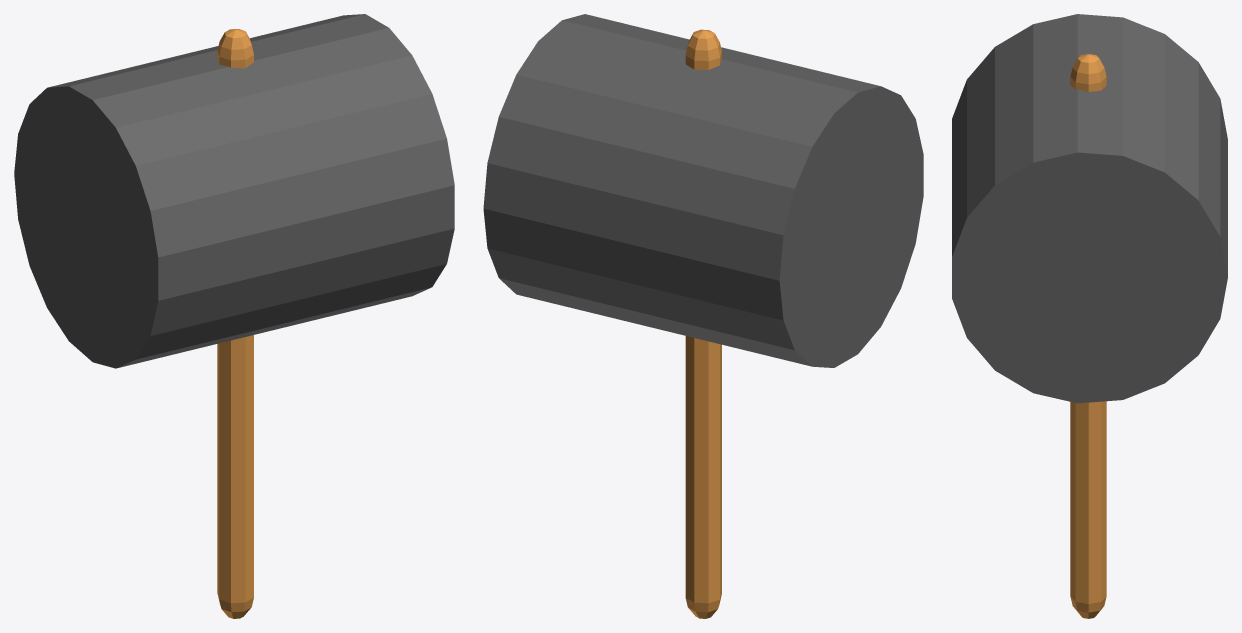
The model's file is Hammer.fbx.
The picture shows the model from 3 angles, left to right: view 1: azimuth 30°, elevation 25°; view 2: azimuth 150°, elevation 25°; view 3: azimuth 270°, elevation 25°; orthographic projection. The views are drawn at different scales.
Parts seen in each view (by area): view 1: Cylinder, Cylinder.001; view 2: Cylinder, Cylinder.001; view 3: Cylinder, Cylinder.001.
Boxes of the visible parts, x1,y1,x2,y2 form: Cylinder: (14,14,454,368); Cylinder.001: (217,29,253,618); Cylinder: (483,14,923,367); Cylinder.001: (685,29,721,618); Cylinder: (952,14,1227,403); Cylinder.001: (1070,54,1106,618).
Size of the model in its own units: 236 by 445 by 199.
